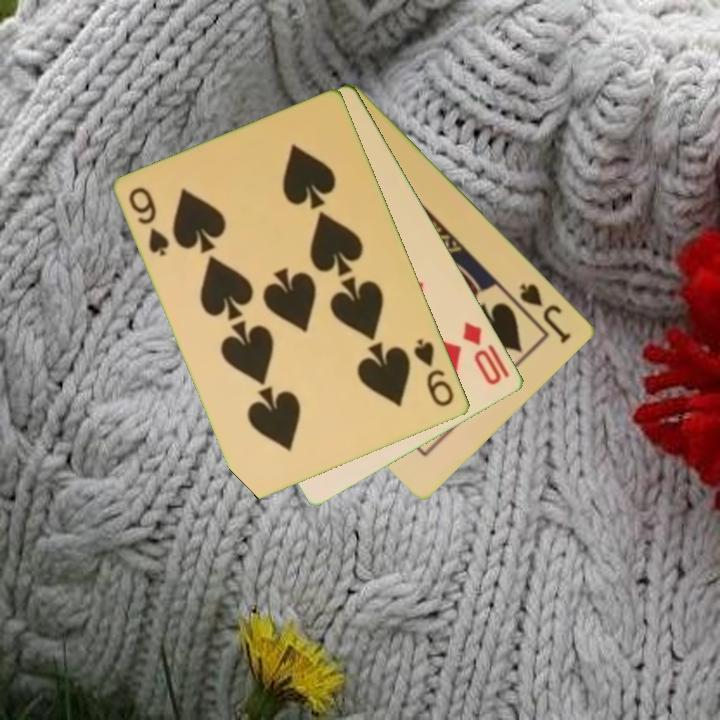10d: (459, 317, 513, 389)
9s: (126, 183, 173, 260), (411, 335, 458, 410)
Js: (517, 279, 575, 346)
